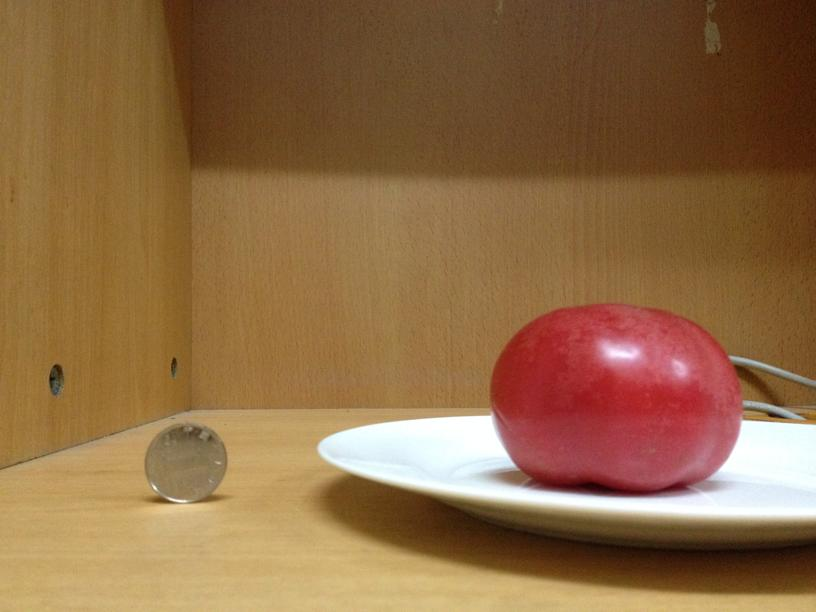coin: (146, 422, 227, 503)
tomato: (487, 305, 744, 490)
